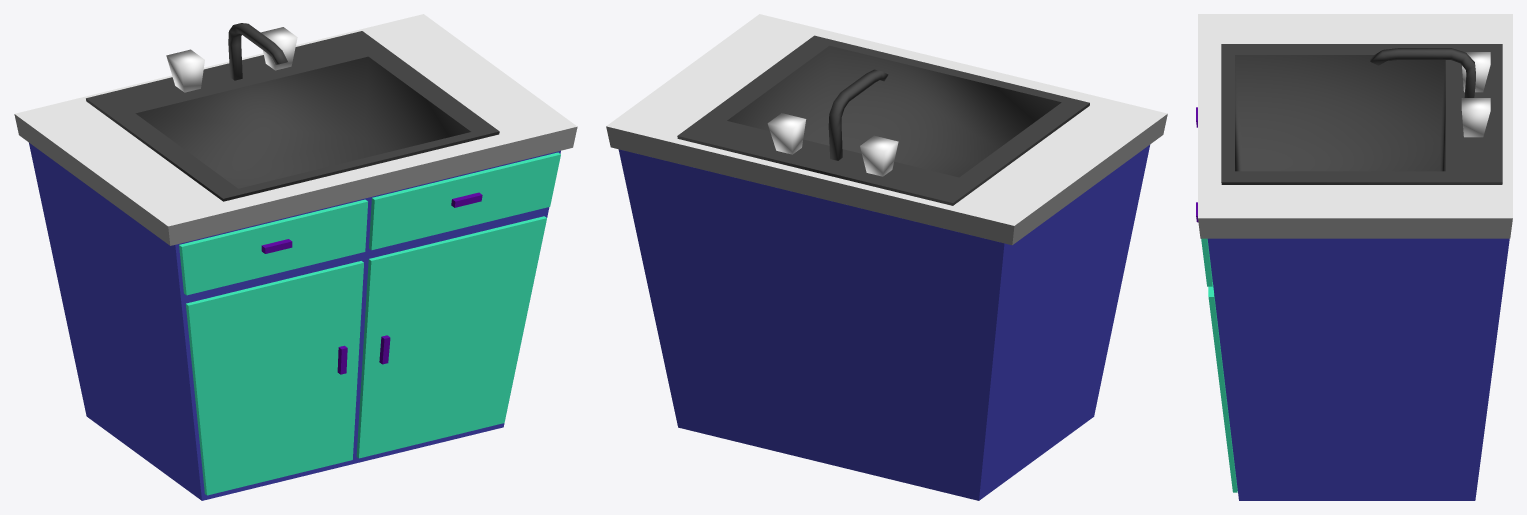
File: House_Kitchen_Cupboard_Floor_sink.FBX
The picture shows the model from 3 angles, left to right: view 1: azimuth 30°, elevation 25°; view 2: azimuth 150°, elevation 25°; view 3: azimuth 270°, elevation 25°; orthographic projection. The views are drawn at different scales.
Parts seen in each view (by area): view 1: House_Kitchen_Cupboard_Floor_sink_body, Kitchen_Cupboard_SinkSection_Sink01, House_Kitchen_Cupboard_Floor_sink_counterTop, House_Kitchen_Cupboard_Floor_sink_fakeDoorRight, House_Kitchen_Cupboard_Floor_sink_fakeDoorLeft, House_Kitchen_Cupboard_Floor_sink_fakeDrawerRight, House_Kitchen_Cupboard_Floor_sink_fakeDrawerLeft, House_Kitchen_Cupboard_Floor_sink_faucet, House_Kitchen_Cupboard_Floor_sink_waterHandleLeft, House_Kitchen_Cupboard_Floor_sink_waterHandleRight; view 2: House_Kitchen_Cupboard_Floor_sink_body, Kitchen_Cupboard_SinkSection_Sink01, House_Kitchen_Cupboard_Floor_sink_counterTop, House_Kitchen_Cupboard_Floor_sink_faucet, House_Kitchen_Cupboard_Floor_sink_waterHandleRight, House_Kitchen_Cupboard_Floor_sink_waterHandleLeft; view 3: House_Kitchen_Cupboard_Floor_sink_body, Kitchen_Cupboard_SinkSection_Sink01, House_Kitchen_Cupboard_Floor_sink_counterTop, House_Kitchen_Cupboard_Floor_sink_faucet, House_Kitchen_Cupboard_Floor_sink_fakeDoorRight, House_Kitchen_Cupboard_Floor_sink_waterHandleRight, House_Kitchen_Cupboard_Floor_sink_waterHandleLeft, House_Kitchen_Cupboard_Floor_sink_fakeDrawerRight.
Part boxes in pixels (x1,y1,x2,y2): House_Kitchen_Cupboard_Floor_sink_body: [29, 143, 560, 500]; Kitchen_Cupboard_SinkSection_Sink01: [86, 31, 499, 201]; House_Kitchen_Cupboard_Floor_sink_counterTop: [14, 14, 577, 245]; House_Kitchen_Cupboard_Floor_sink_fakeDoorRight: [356, 216, 546, 458]; House_Kitchen_Cupboard_Floor_sink_fakeDoorLeft: [185, 261, 363, 495]; House_Kitchen_Cupboard_Floor_sink_fakeDrawerRight: [369, 152, 560, 250]; House_Kitchen_Cupboard_Floor_sink_fakeDrawerLeft: [179, 199, 367, 295]; House_Kitchen_Cupboard_Floor_sink_faucet: [228, 23, 287, 80]; House_Kitchen_Cupboard_Floor_sink_waterHandleLeft: [166, 49, 204, 92]; House_Kitchen_Cupboard_Floor_sink_waterHandleRight: [260, 27, 297, 70]; House_Kitchen_Cupboard_Floor_sink_body: [618, 145, 1149, 500]; Kitchen_Cupboard_SinkSection_Sink01: [677, 35, 1089, 205]; House_Kitchen_Cupboard_Floor_sink_counterTop: [606, 14, 1167, 245]; House_Kitchen_Cupboard_Floor_sink_faucet: [828, 69, 888, 160]; House_Kitchen_Cupboard_Floor_sink_waterHandleRight: [767, 113, 806, 154]; House_Kitchen_Cupboard_Floor_sink_waterHandleLeft: [860, 135, 898, 176]; House_Kitchen_Cupboard_Floor_sink_body: [1207, 238, 1509, 500]; Kitchen_Cupboard_SinkSection_Sink01: [1221, 44, 1502, 184]; House_Kitchen_Cupboard_Floor_sink_counterTop: [1198, 14, 1512, 238]; House_Kitchen_Cupboard_Floor_sink_faucet: [1370, 48, 1475, 97]; House_Kitchen_Cupboard_Floor_sink_fakeDoorRight: [1208, 282, 1237, 492]; House_Kitchen_Cupboard_Floor_sink_waterHandleRight: [1461, 98, 1490, 137]; House_Kitchen_Cupboard_Floor_sink_waterHandleLeft: [1462, 52, 1490, 92]; House_Kitchen_Cupboard_Floor_sink_fakeDrawerRight: [1196, 202, 1212, 286].
Size of the model in its own units: 226 by 193 by 148.
